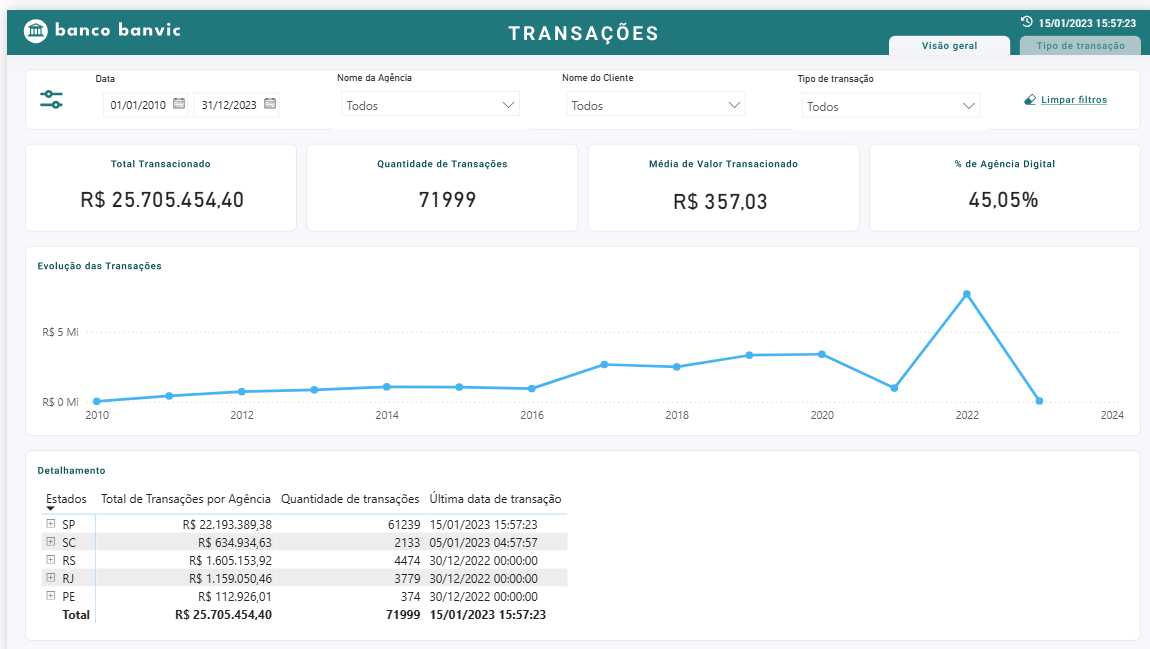

The page's visual inventory and layout, read from the dashboard file:
{"tool":"powerbi","page":{"name":"visao_geral","canvas":[1280,720],"ordinal":0},"visuals":[{"type":"card","fields":{"Values":["Max(fact_transacoes.data_transacao)"]},"box":[1120,0,160,31.9],"z":0},{"type":"slicer","title":"Data","fields":{"Values":["dim_datas.data"]},"box":[93.3,70,217.8,56.7],"z":1000},{"type":"slicer","title":"Nome da Agência","fields":{"Values":["dim_agencias.nome_da_agencia"]},"box":[362.2,67.8,217.8,64.4],"z":2000},{"type":"slicer","title":"Nome do Cliente","fields":{"Values":["dim_clientes.nome_cliente"]},"box":[611.1,68.9,218.9,63.3],"z":3000},{"type":"slicer","title":"Tipo de transação","fields":{"Values":["fact_transacoes.data_transacao"]},"box":[873.3,70,217.8,63.3],"z":4000},{"type":"actionButton","box":[1125.6,86.9,107.5,27.5],"z":5000},{"type":"card","fields":{"Values":["Sum(fact_transacoes.valor_transacao)"]},"box":[33.8,178.8,277.5,62.5],"z":6000},{"type":"card","fields":{"Values":["CountNonNull(fact_transacoes.cod_transacao)"]},"box":[349.4,178.8,277.5,62.5],"z":7000},{"type":"card","fields":{"Values":["Avg(fact_transacoes.valor_transacao)"]},"box":[653,180,278,62],"z":8000},{"type":"card","fields":{"Values":["Medidas.transacoes_digital"]},"box":[969,179,277,62],"z":9000},{"type":"lineChart","fields":{"Category":["dim_datas.ano"],"Y":["Sum(fact_transacoes.valor_transacao)"]},"box":[34,296,1212,172],"z":10000},{"type":"pivotTable","fields":{"Rows":["dim_agencias.uf","dim_agencias.nome_da_agencia"],"Values":["Sum(fact_transacoes.valor_transacao)","CountNonNull(fact_transacoes.cod_transacao)","Max(fact_transacoes.data_transacao)"]},"box":[34,526,1212,162],"z":11000},{"type":"actionButton","box":[1125.6,31.7,132.7,20.5],"z":11001}]}

Visuals, with their boxes in screenshot pixels (x1, y1, x2, y2), scaled from the page's 1280x720 canvas onto the 1150x649 screenshot:
card - Max(fact_transacoes.data_transacao): crop(1006, 0, 1149, 29)
"Data" slicer: crop(84, 63, 280, 114)
"Nome da Agência" slicer: crop(325, 61, 521, 119)
"Nome do Cliente" slicer: crop(549, 62, 746, 119)
"Tipo de transação" slicer: crop(785, 63, 980, 120)
actionButton: crop(1011, 78, 1108, 103)
card - Sum(fact_transacoes.valor_transacao): crop(30, 161, 280, 218)
card - CountNonNull(fact_transacoes.cod_transacao): crop(314, 161, 563, 218)
card - Avg(fact_transacoes.valor_transacao): crop(587, 162, 836, 218)
card - Medidas.transacoes_digital: crop(871, 161, 1119, 217)
lineChart - dim_datas.ano x Sum(fact_transacoes.valor_transacao): crop(31, 267, 1119, 422)
pivotTable - dim_agencias.uf x dim_agencias.nome_da_agencia: crop(31, 474, 1119, 620)
actionButton: crop(1011, 29, 1131, 47)
